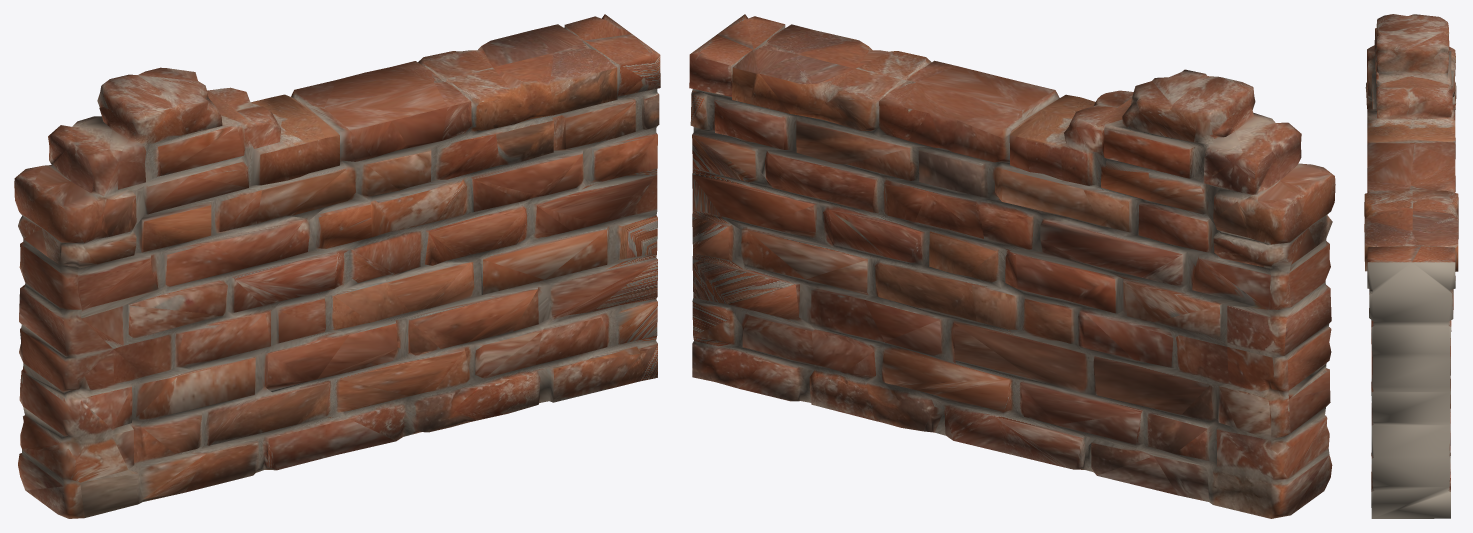
File: broken-red-brick-wall.glb
3 renders of one model, left to right at view 1: azimuth 30°, elevation 25°; view 2: azimuth 150°, elevation 25°; view 3: azimuth 270°, elevation 25°, orthographic. The views are drawn at different scales.
Parts seen in each view (by area): view 1: broken-red-brick-wall; view 2: broken-red-brick-wall; view 3: broken-red-brick-wall.
Boxes of the visible parts, x1,y1,x2,y2 form: broken-red-brick-wall: (14, 14, 660, 518); broken-red-brick-wall: (689, 14, 1335, 518); broken-red-brick-wall: (1364, 14, 1458, 518).
Bounding box in the file's own units: 2 × 1.25 × 0.3494.
Materials: 2 (1 with a texture image).
